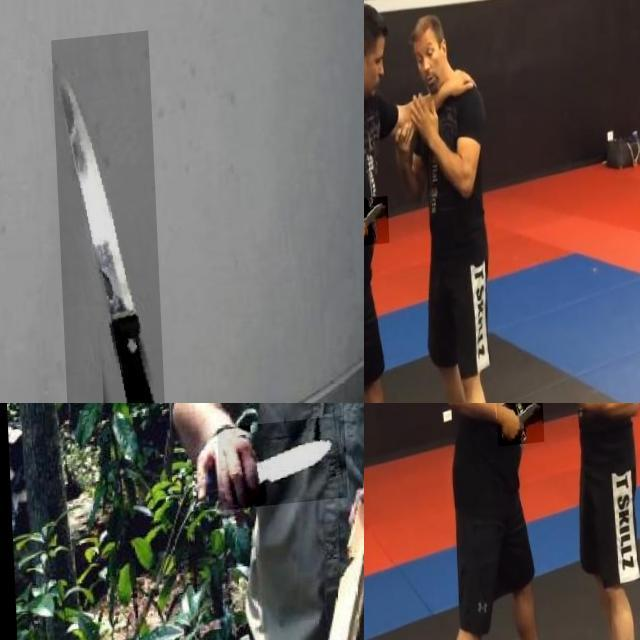-: (49, 38, 160, 403), (214, 423, 344, 515), (493, 406, 541, 454), (364, 203, 388, 255)
